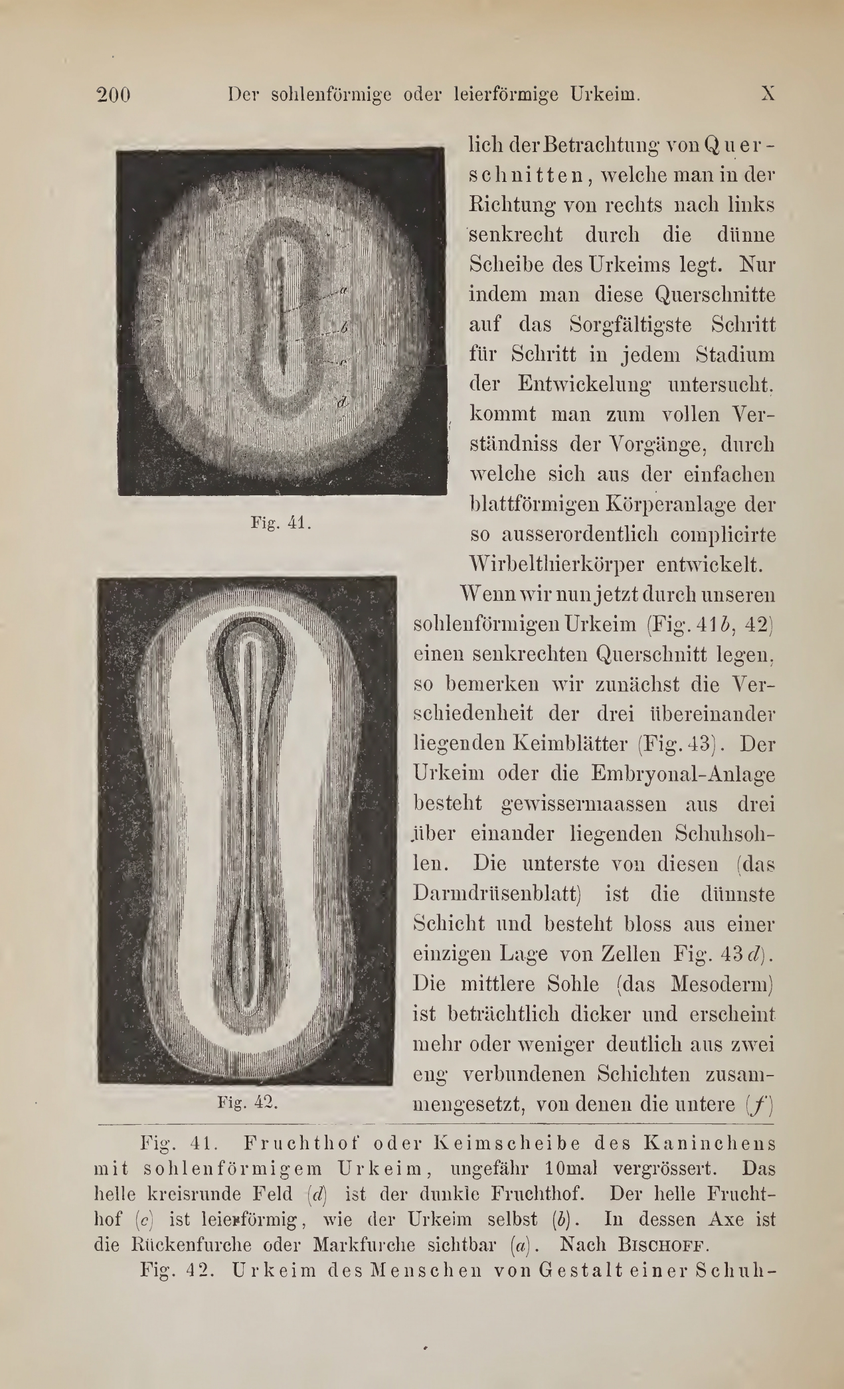GraphicZone_Description: (240, 500, 324, 546), (200, 1087, 298, 1119)
GraphicZone_Illustration: (90, 569, 401, 1092), (108, 141, 454, 505)
MainZone: (389, 119, 785, 1123)
MarginTextZone note: (83, 1123, 789, 1303)
NumberingZone chapter: (744, 70, 796, 111)
NumberingZone_page: (90, 72, 143, 119)
RunningTitleZone: (215, 73, 653, 116)
